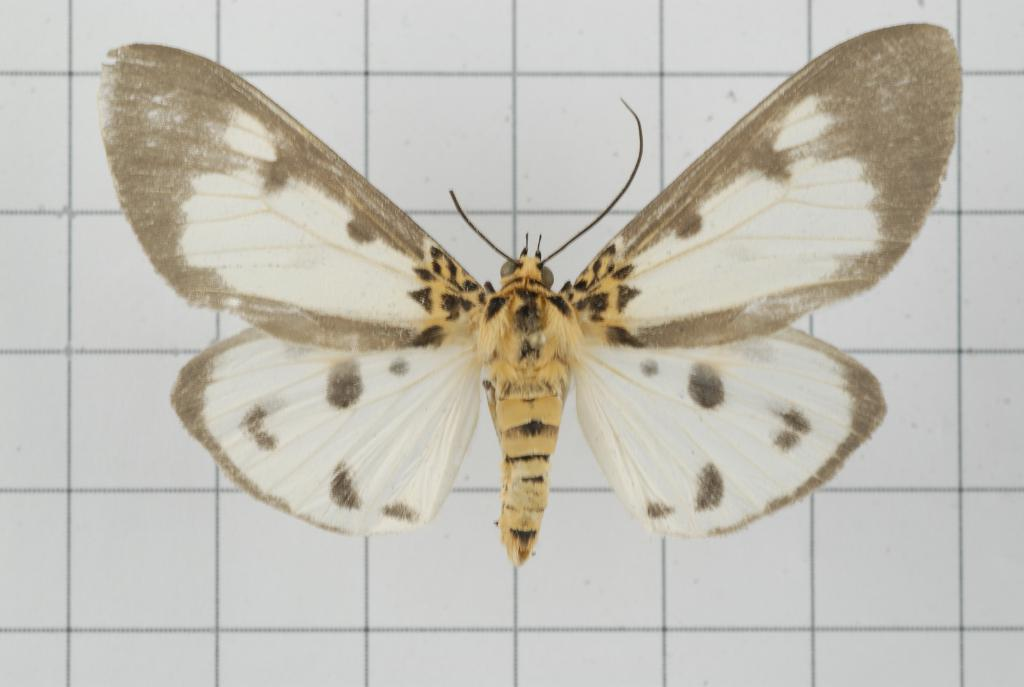Butterfly: (84, 17, 963, 587)
